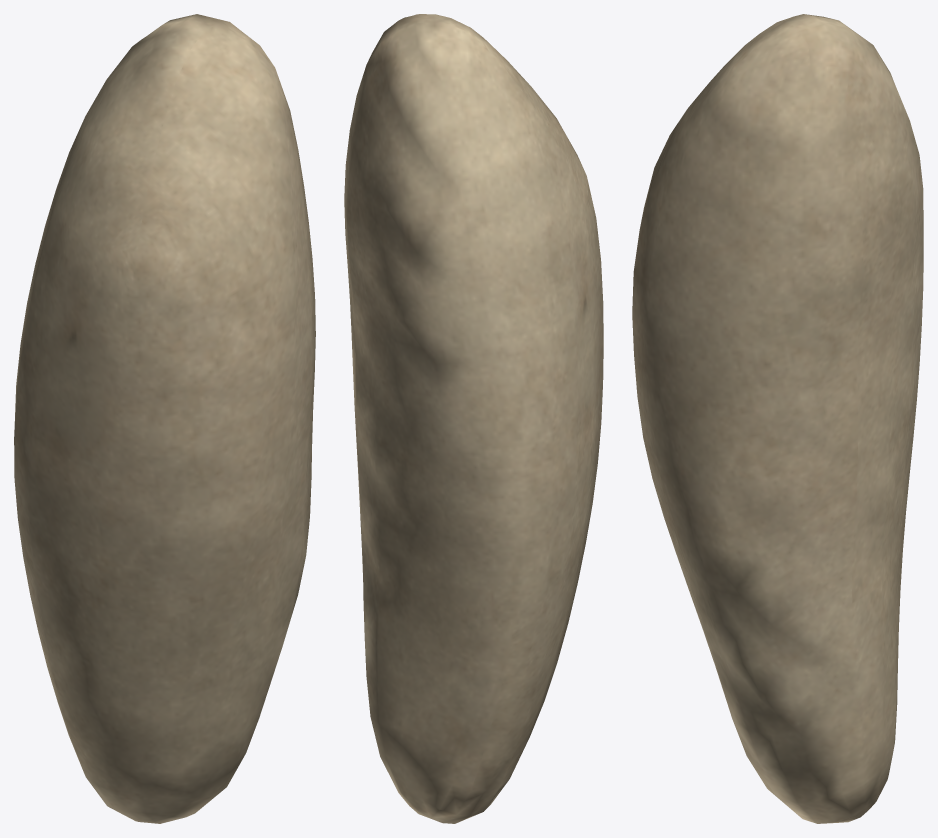
The model's file is Upper_Canine1.glb.
3 views of the same model, side by side, from view 1: azimuth 30°, elevation 25°; view 2: azimuth 150°, elevation 25°; view 3: azimuth 270°, elevation 25° (orthographic). The views are drawn at different scales.
Visible parts, largest first — view 1: Group16962_Mesh.073; view 2: Group16962_Mesh.073; view 3: Group16962_Mesh.073.
Part boxes in pixels (bbox=[...]): Group16962_Mesh.073: bbox=[14, 14, 315, 823]; Group16962_Mesh.073: bbox=[344, 14, 603, 823]; Group16962_Mesh.073: bbox=[632, 14, 923, 823].
Bounding box in the file's own units: 0.00709 × 0.0221 × 0.00719.
Materials: 1 (1 with a texture image).
